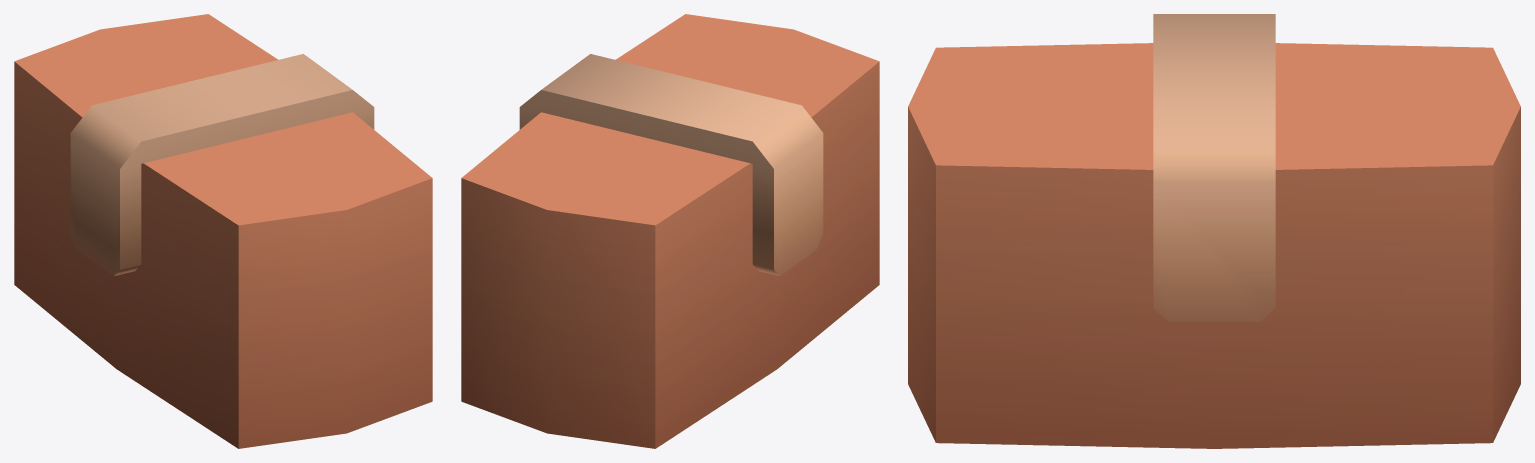
File: box-wide.glb
The picture shows the model from 3 angles, left to right: view 1: azimuth 30°, elevation 25°; view 2: azimuth 150°, elevation 25°; view 3: azimuth 270°, elevation 25°; orthographic projection. The views are drawn at different scales.
Visible parts, largest first — view 1: box-wide; view 2: box-wide; view 3: box-wide.
Boxes of the visible parts, x1,y1,x2,y2 form: box-wide: [14, 14, 432, 448]; box-wide: [461, 14, 879, 448]; box-wide: [908, 14, 1520, 448].
Bounding box in the file's own units: 0.595 × 0.55 × 1.
Materials: 1 (1 with a texture image).
